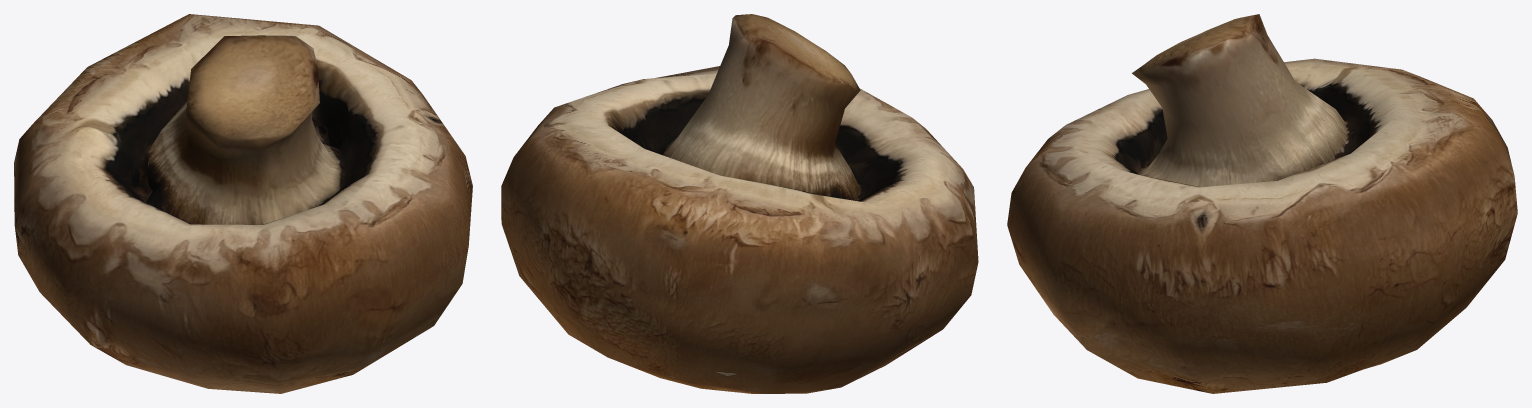
Rendered from A79_Mushroom_low.fbx.
3 views of the same model, side by side, from view 1: azimuth 30°, elevation 25°; view 2: azimuth 150°, elevation 25°; view 3: azimuth 270°, elevation 25° (orthographic). The views are drawn at different scales.
Parts seen in each view (by area): view 1: A79_Mushroom_low; view 2: A79_Mushroom_low; view 3: A79_Mushroom_low.
Boxes of the visible parts, x1,y1,x2,y2 form: A79_Mushroom_low: [14, 14, 472, 393]; A79_Mushroom_low: [501, 14, 978, 393]; A79_Mushroom_low: [1007, 14, 1517, 393].
Bounding box in the file's own units: 2.68 × 2.81 × 2.05.
Materials: 1 (1 with a texture image).
